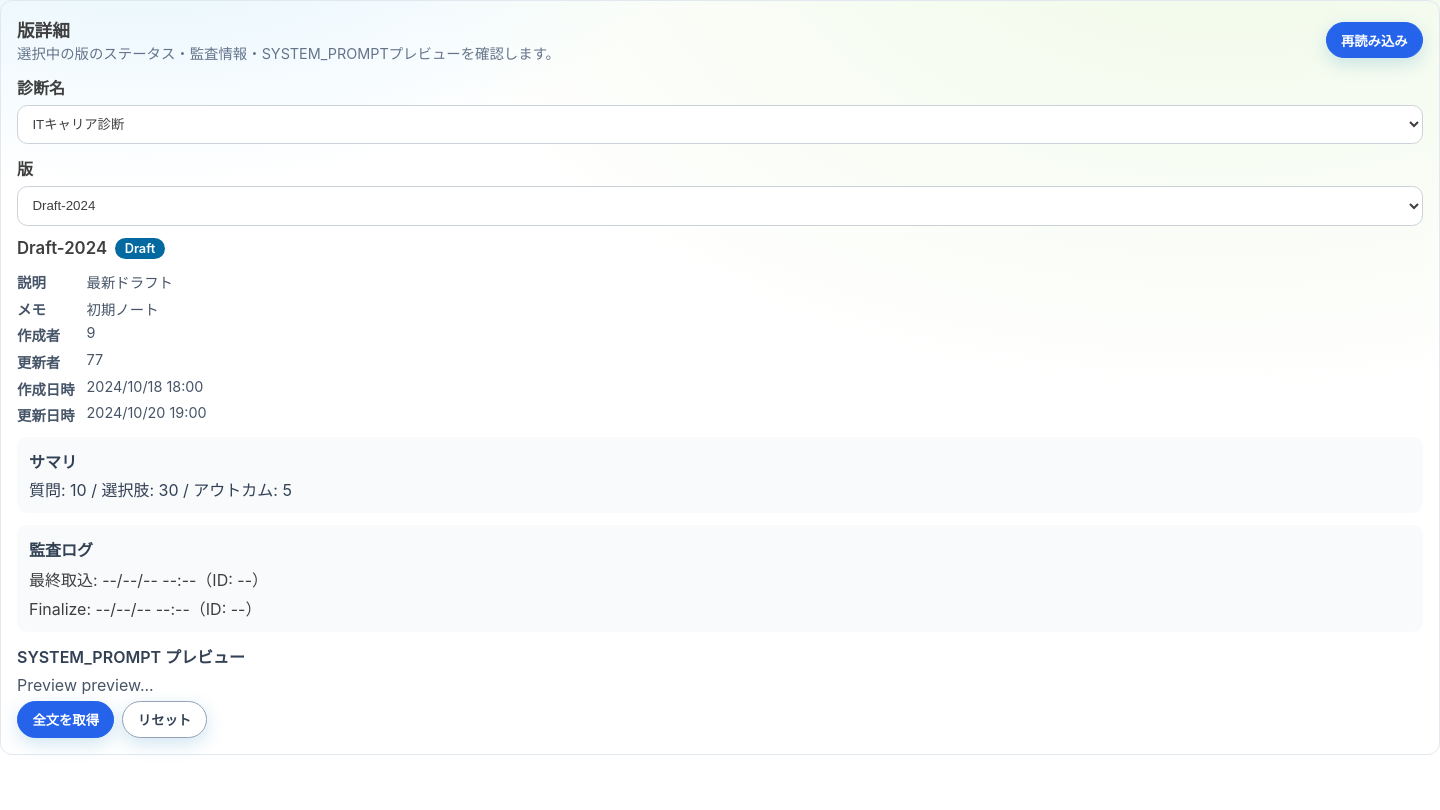
VersionDetailCard › renders detail info and fetches full prompt on demand
Expected: the text "説明" is shown, [17, 274, 46, 291]
Expected: the text "最新ドラフト" is shown, [87, 274, 173, 291]
What coordinates should you click on to do the following:
click the button "全文を取得"
I would click on:
 (66, 720)
Its box is [17, 701, 114, 738].
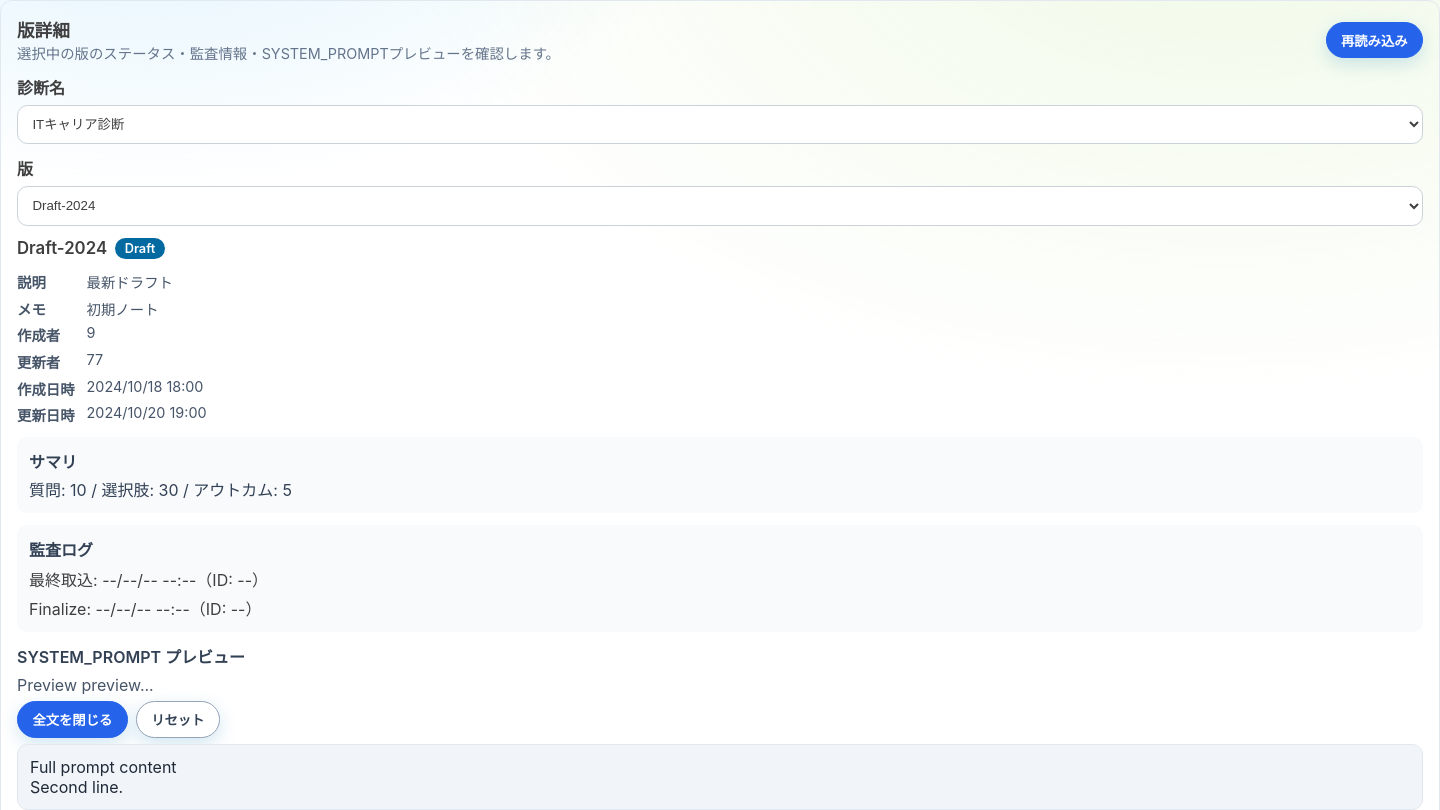
Expected: the text "Full prompt content" is shown, [30, 758, 177, 798]
Expected: the button "全文を閉じる" is shown
What coordinates should you click on to do the following:
click the button "全文を閉じる"
I would click on:
 (72, 720)
Its box is [17, 701, 128, 738].
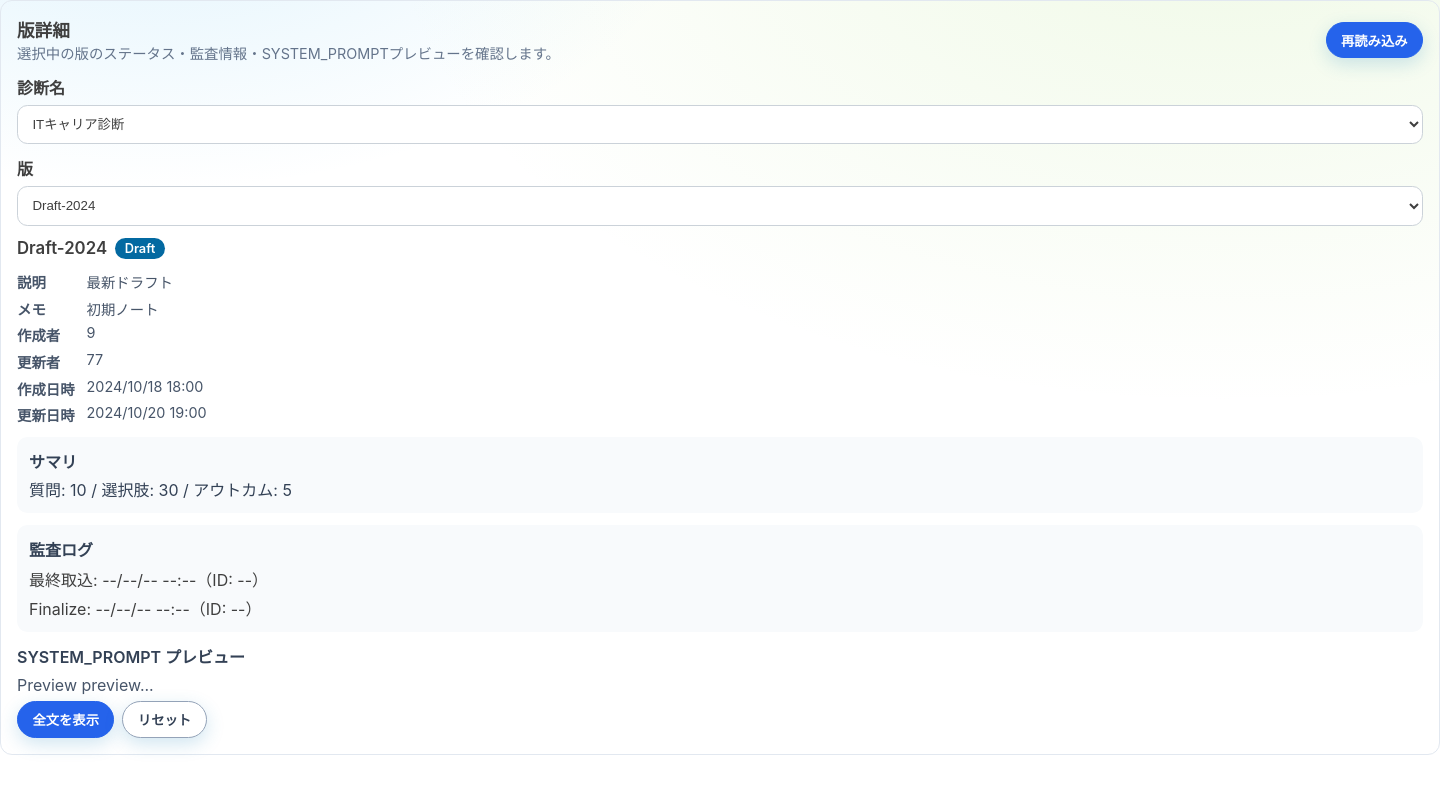
Expected: the text "Full prompt content" is gone
